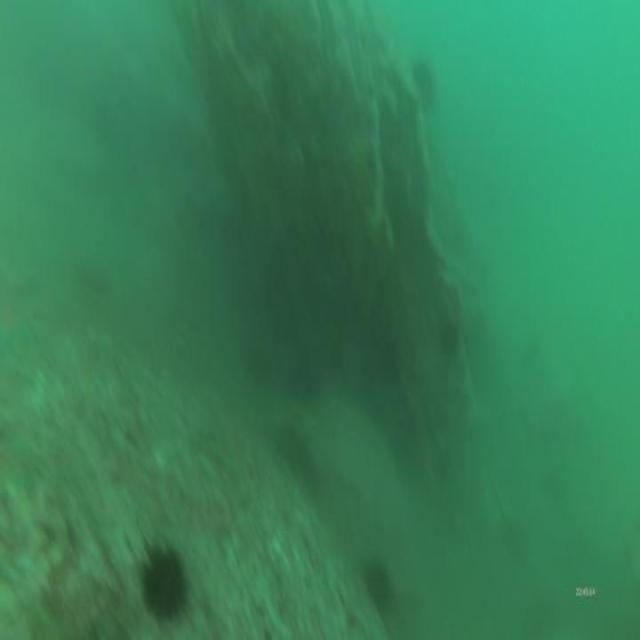echinus: (133, 529, 191, 634), (358, 550, 397, 616), (407, 52, 438, 114), (284, 356, 322, 404), (498, 510, 530, 561), (535, 462, 568, 511), (436, 312, 462, 361)
